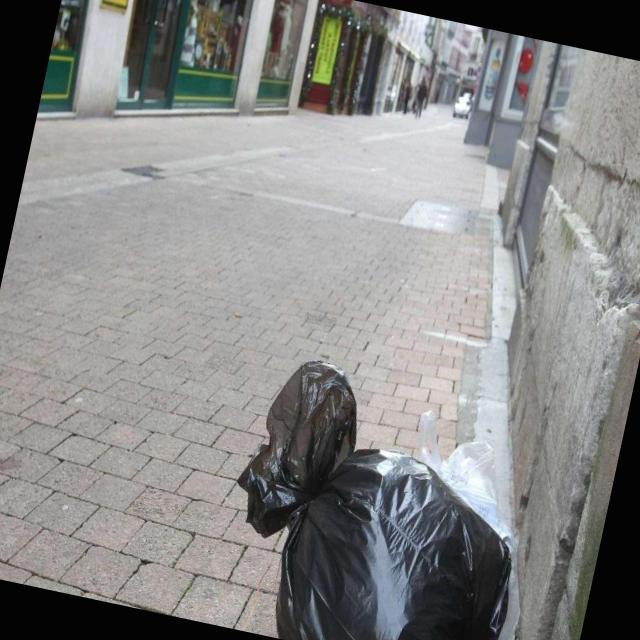garbage: (192, 357, 595, 640)
